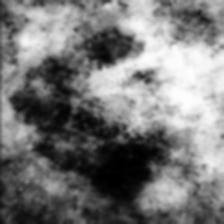Potentially Malignant Skin Tumors: (6, 40, 188, 196)
